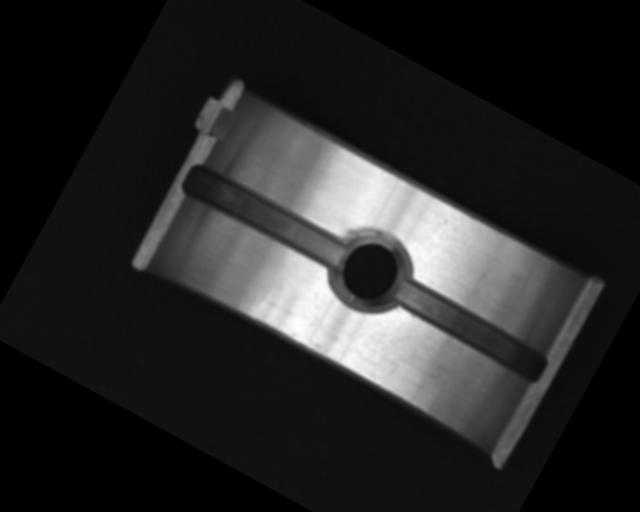gap: (177, 157, 351, 277), (388, 275, 552, 384)
hole: (314, 214, 427, 329)
